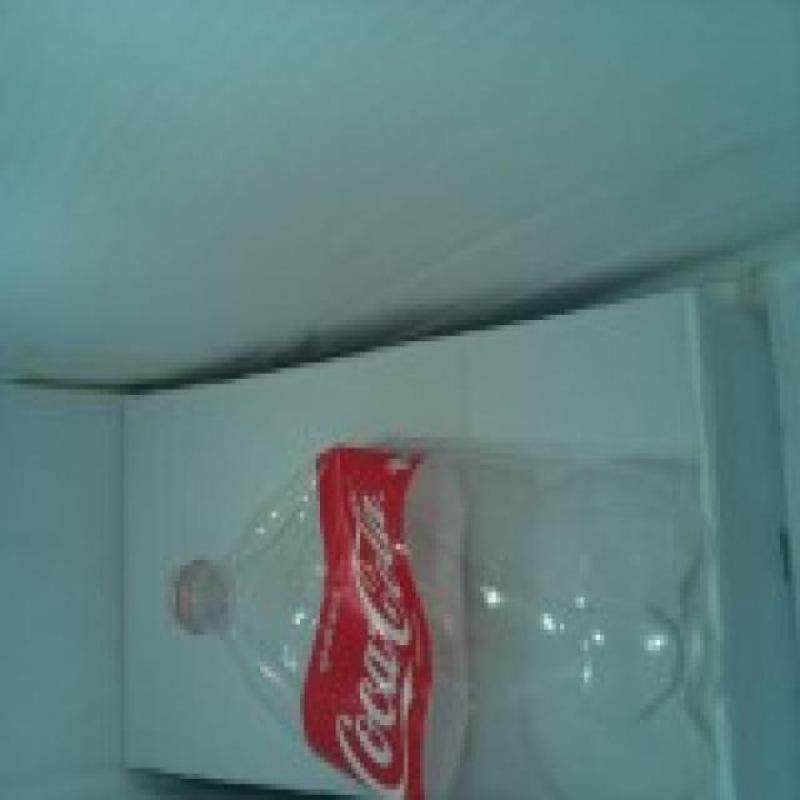botella: (170, 442, 728, 800)
